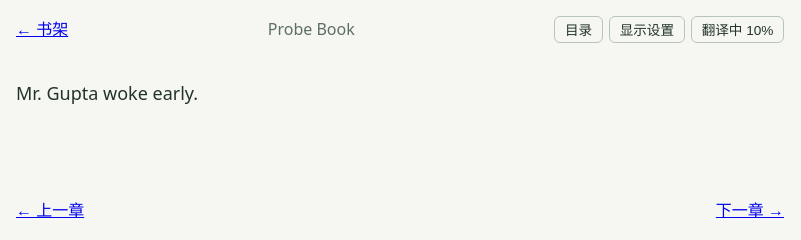
Test: ReadingPage's translate button through the component boundary › re-arms the follow on a chapter jump between two translating chapters: first tick a full interval later
The image size is (801, 240).
Check: the button "翻译中 10%" is shown, box [691,16,784,43]
Note: Jump to chapter 3 while it too is translating.
Click the link "下一章 →" at (750, 211), box [716,198,784,224]
Wait 1500 ms
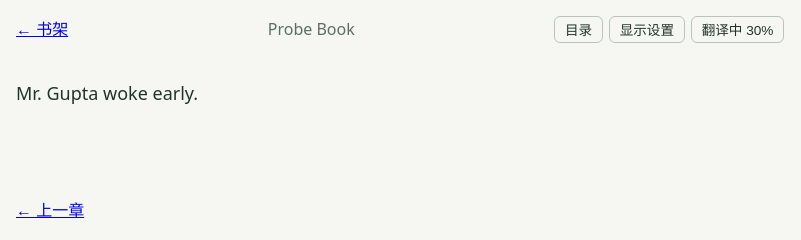
Check: the button "翻译中 30%" is shown, box [691,16,784,43]
